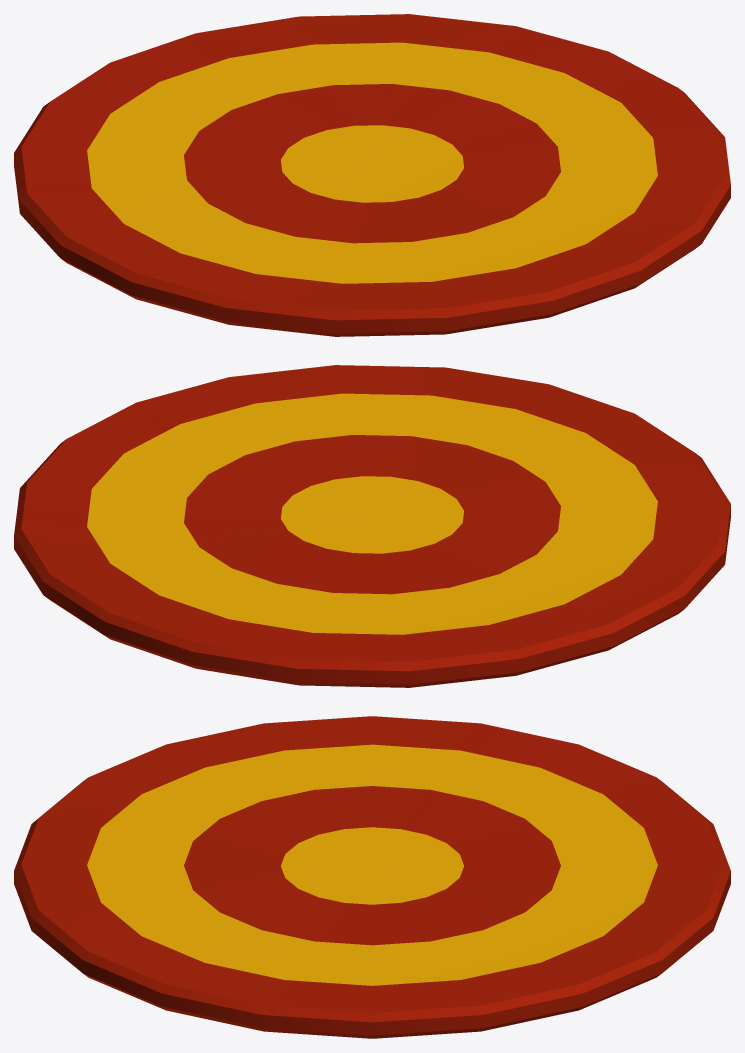
The model's file is Target.fbx.
3 views of the same model, one above another, from view 1: azimuth 30°, elevation 25°; view 2: azimuth 150°, elevation 25°; view 3: azimuth 270°, elevation 25° (orthographic).
Visible parts, largest first — view 1: pCylinder10; view 2: pCylinder10; view 3: pCylinder10.
Boxes of the visible parts, bbox=[...] form: pCylinder10: bbox=[14, 14, 730, 336]; pCylinder10: bbox=[14, 365, 730, 687]; pCylinder10: bbox=[14, 716, 730, 1038].
Bounding box in the file's own units: 6.46 × 0.2577 × 6.46.
